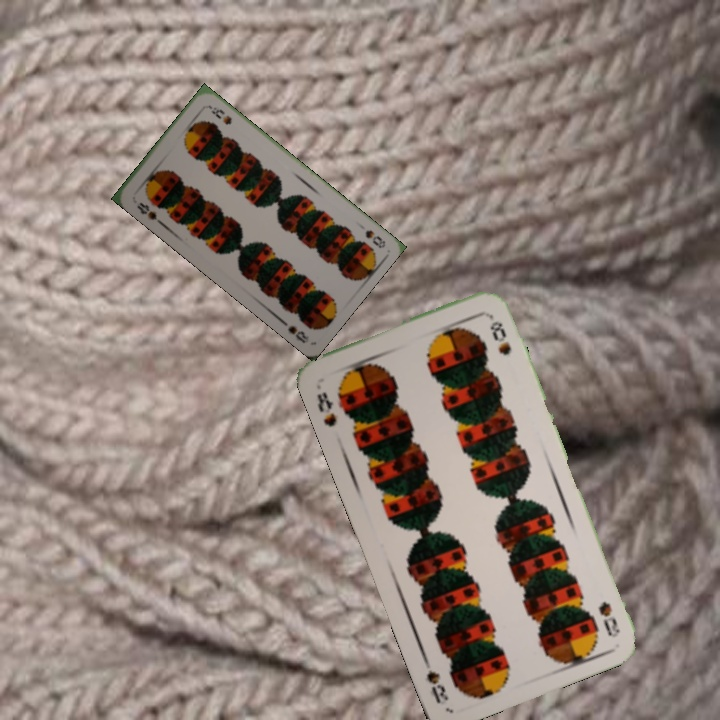S8: (594, 597, 623, 640), (312, 387, 340, 430), (133, 198, 163, 226), (361, 226, 388, 251)
